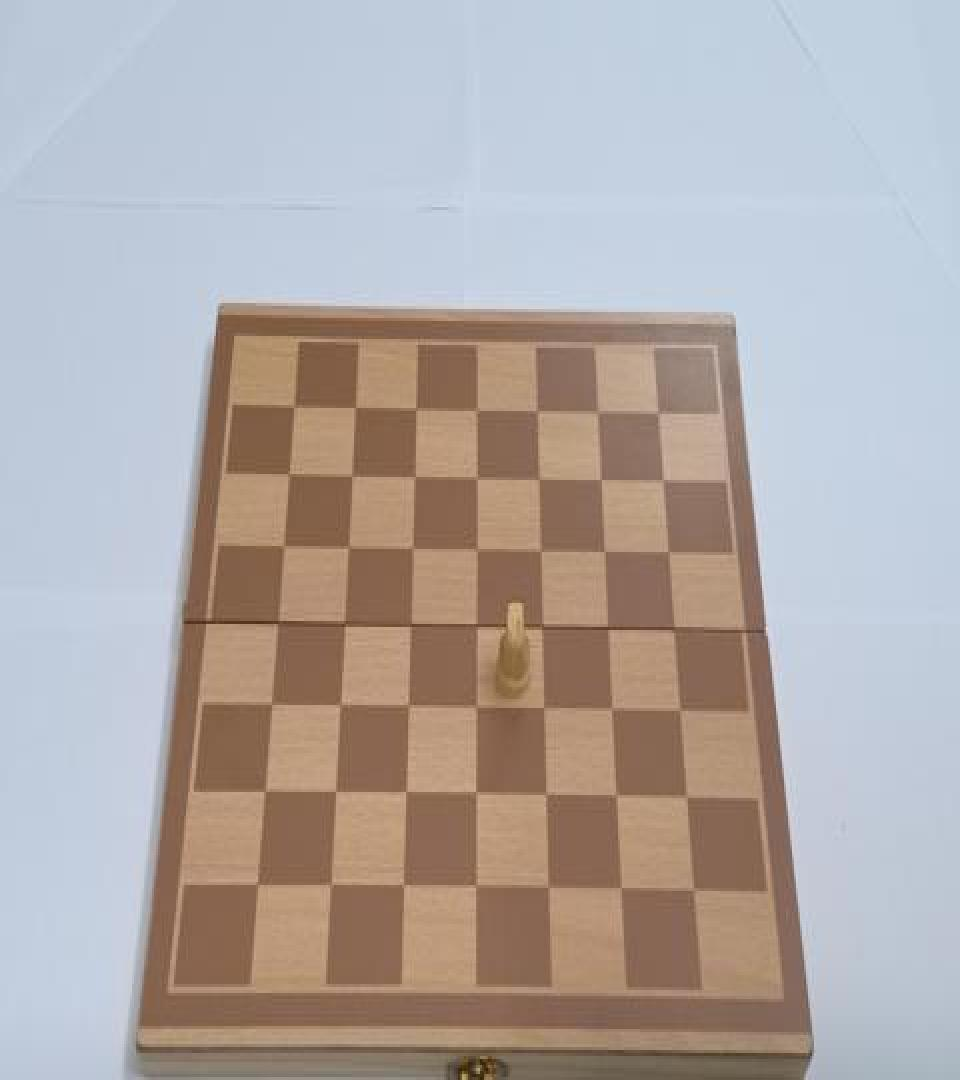xcorner: (259, 694, 277, 722), (344, 394, 362, 422), (529, 466, 547, 494), (650, 400, 668, 428), (282, 393, 300, 420), (277, 462, 295, 489), (245, 874, 263, 901), (336, 537, 354, 564), (328, 696, 346, 723), (323, 783, 341, 810), (318, 876, 336, 903), (405, 396, 423, 423), (403, 465, 421, 492), (401, 537, 419, 564), (399, 615, 417, 642), (394, 785, 412, 812), (466, 396, 484, 423), (466, 465, 484, 492), (466, 538, 484, 565), (465, 617, 483, 644), (465, 699, 483, 726), (465, 786, 483, 813), (464, 879, 482, 906), (527, 397, 545, 424), (530, 540, 548, 567), (532, 618, 550, 645), (534, 699, 552, 726), (538, 880, 556, 907), (588, 399, 606, 426), (592, 468, 610, 495), (599, 618, 617, 645), (602, 700, 620, 727), (611, 882, 629, 909), (654, 470, 672, 497), (671, 702, 689, 729), (677, 789, 695, 816), (684, 882, 702, 909), (271, 536, 289, 562), (265, 614, 283, 640), (252, 782, 270, 808), (340, 464, 358, 490), (332, 614, 350, 640), (396, 698, 414, 724), (391, 878, 409, 904), (536, 788, 554, 814), (595, 542, 613, 568), (606, 788, 624, 814), (660, 542, 678, 568), (665, 620, 683, 646)
